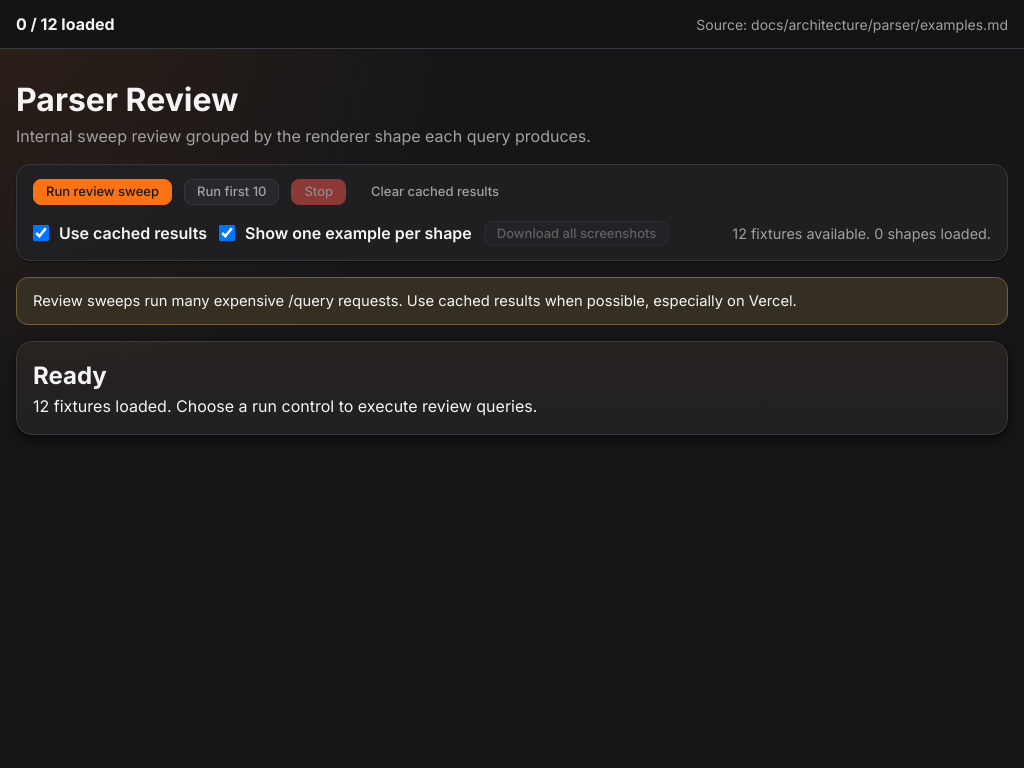
ReviewPage › runs only the first 10 fixtures from the first-10 control
Expected: the text "0 / 12 loaded" is shown, [16,12,115,36]
Click the button "Run first 10". click: (232, 192)
box: [184,179,280,205]
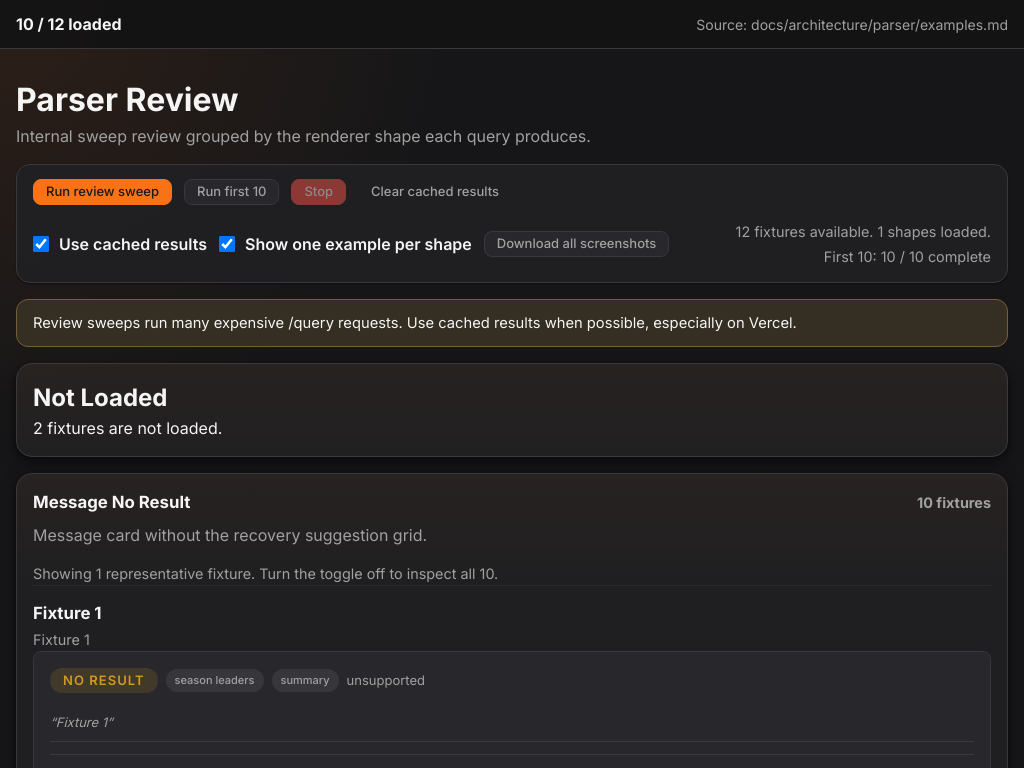
Expected: the text "10 / 12 loaded" is shown, [16,12,122,36]
